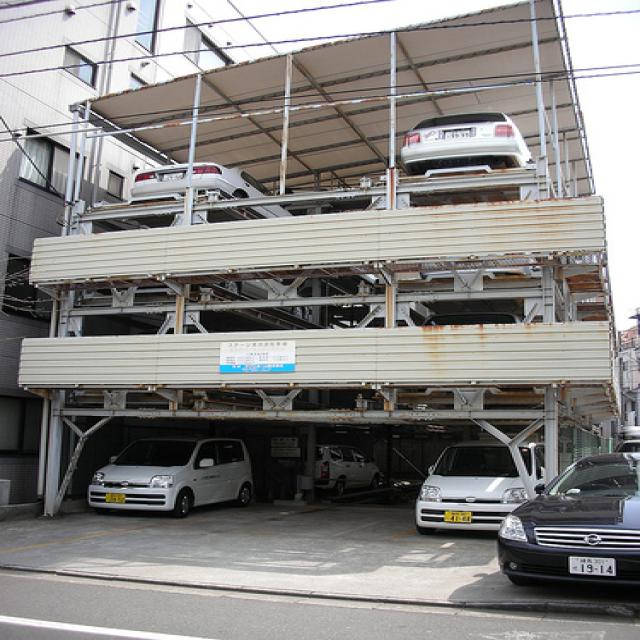Car: (500, 447, 640, 603), (84, 434, 276, 520), (413, 441, 539, 537), (114, 157, 300, 222), (392, 114, 544, 188)
